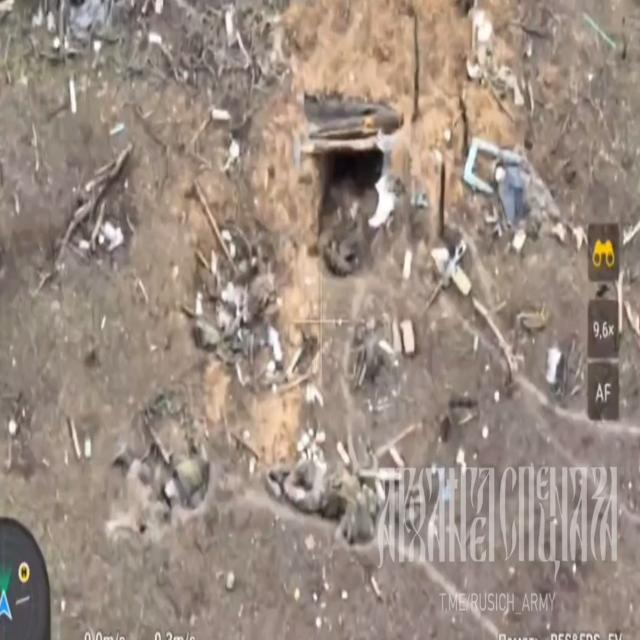fortification: (296, 75, 404, 304)
